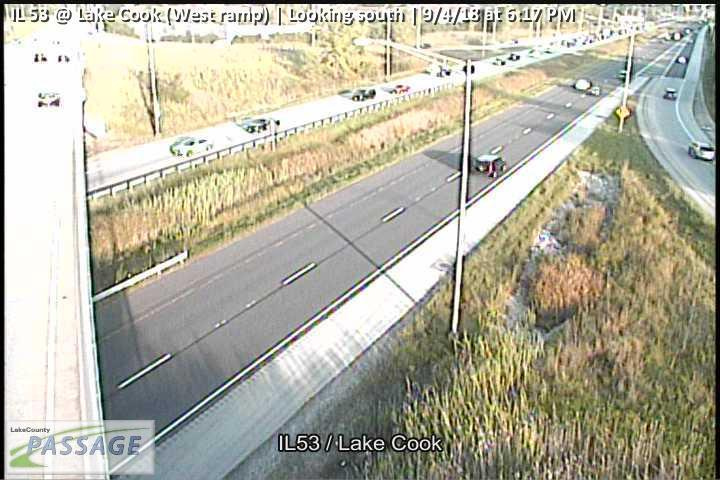SUV: (688, 142, 716, 161), (351, 88, 377, 102), (664, 88, 677, 99)
Sedan: (169, 138, 214, 157), (243, 118, 281, 135)
